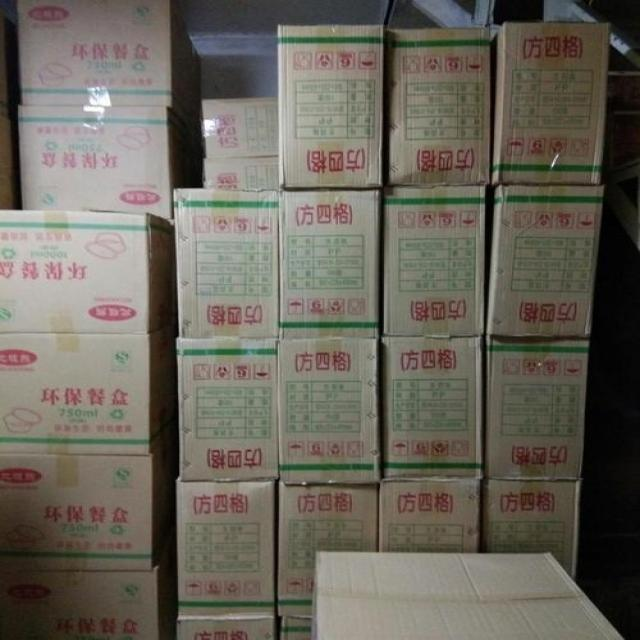box: (312, 551, 625, 639), (0, 432, 180, 573), (16, 1, 202, 137), (0, 318, 179, 453), (1, 209, 178, 333), (18, 104, 202, 220), (490, 23, 609, 185), (485, 184, 604, 336), (383, 25, 490, 188), (278, 24, 383, 190), (0, 544, 177, 639), (380, 185, 486, 338), (376, 336, 485, 482), (277, 188, 379, 340), (174, 189, 278, 337), (276, 339, 383, 482), (484, 336, 590, 478), (178, 337, 278, 482), (274, 479, 379, 617), (175, 476, 274, 616), (478, 478, 579, 580), (378, 479, 481, 553), (201, 97, 281, 158), (201, 156, 282, 191), (177, 615, 275, 639), (275, 615, 313, 639)
